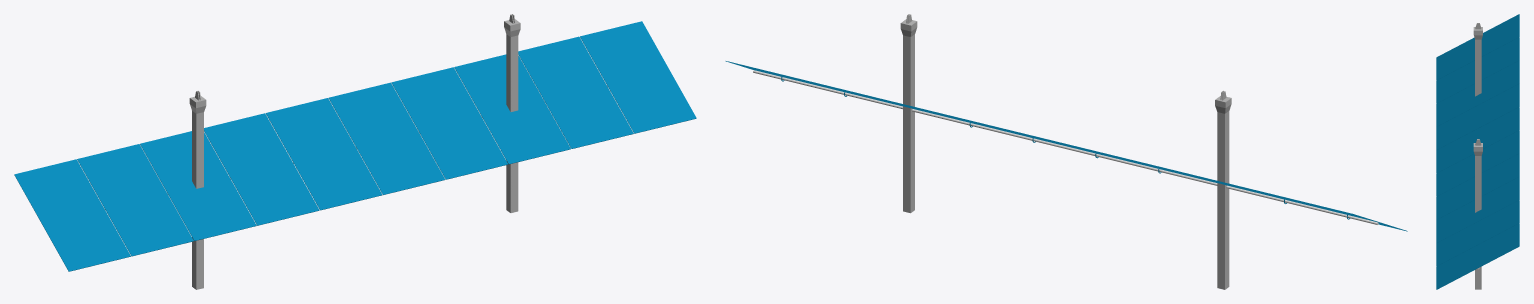
File: PANNELLI_X10.gltf
3 views of the same model, side by side, from view 1: azimuth 30°, elevation 25°; view 2: azimuth 150°, elevation 25°; view 3: azimuth 270°, elevation 25° (orthographic). The views are drawn at different scales.
Visible parts, largest first — view 1: Box008, Box013, Box010, Box005, Box009, Box001, Box007, Box012, Box011, Box006, Box014, Box002; view 2: Box002, Box014, Cylinder001; view 3: Box013, Box007, Box012, Box006, Box011, Box008, Box010, Box005, Box001, Box009, Box014, Box002.
Boxes of the visible parts, left/top/right/bottom form: Box008: left=265, top=98, right=382, bottom=210; Box013: left=580, top=21, right=696, bottom=133; Box010: left=391, top=67, right=508, bottom=179; Box005: left=77, top=144, right=193, bottom=256; Box009: left=328, top=82, right=445, bottom=194; Box001: left=14, top=159, right=130, bottom=271; Box007: left=204, top=113, right=319, bottom=225; Box012: left=518, top=36, right=633, bottom=148; Box011: left=454, top=54, right=570, bottom=164; Box006: left=140, top=131, right=256, bottom=240; Box014: left=504, top=19, right=520, bottom=212; Box002: left=189, top=96, right=206, bottom=289; Box002: left=1215, top=96, right=1231, bottom=289; Box014: left=900, top=19, right=917, bottom=213; Cylinder001: left=753, top=70, right=1378, bottom=224; Box013: left=1436, top=223, right=1519, bottom=289; Box007: left=1436, top=84, right=1519, bottom=150; Box012: left=1436, top=200, right=1519, bottom=266; Box006: left=1436, top=60, right=1519, bottom=126; Box011: left=1436, top=177, right=1519, bottom=243; Box008: left=1436, top=107, right=1519, bottom=173; Box010: left=1436, top=153, right=1519, bottom=219; Box005: left=1436, top=37, right=1519, bottom=103; Box001: left=1436, top=14, right=1519, bottom=80; Box009: left=1436, top=130, right=1519, bottom=196; Box014: left=1473, top=143, right=1482, bottom=289; Box002: left=1473, top=27, right=1482, bottom=96.
Size of the model in its own units: 11.97 by 3.57 by 1.81.
